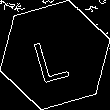L_N: (33, 27, 77, 83)
